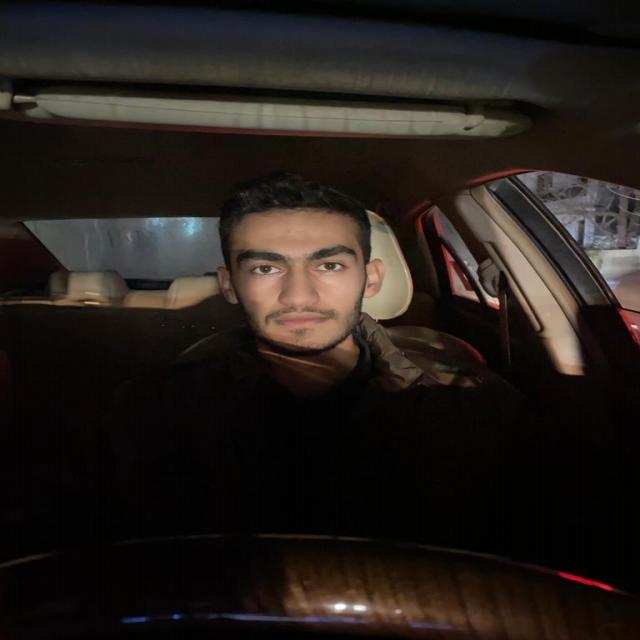person: (219, 191, 374, 355)
